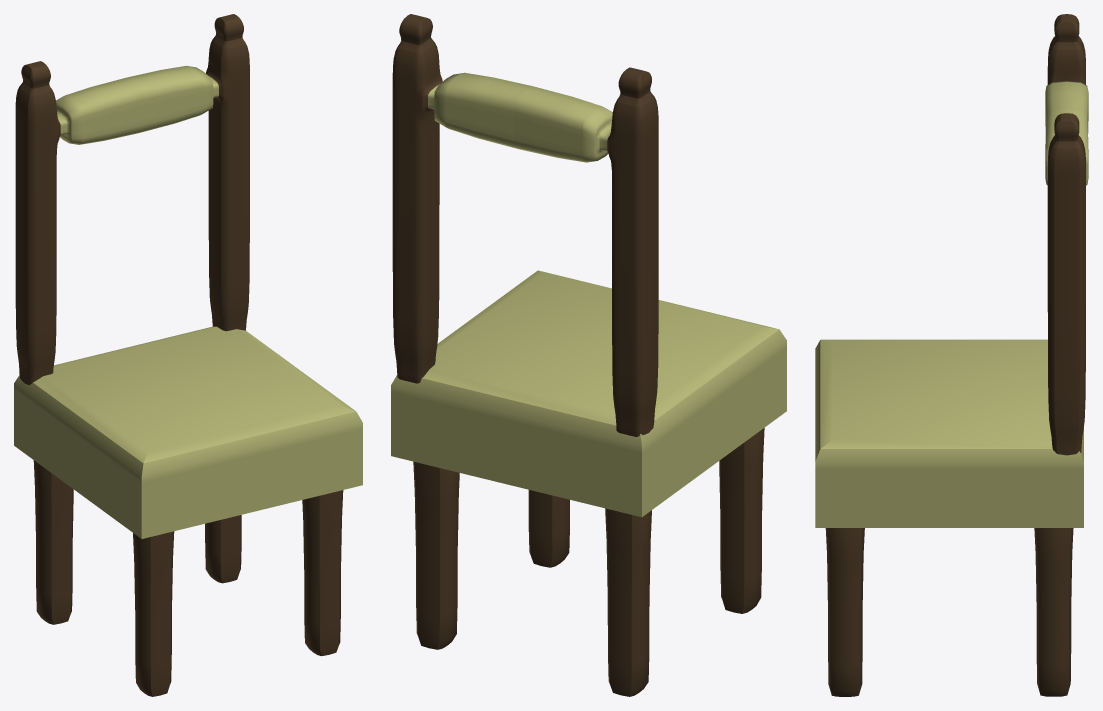
The model's file is chair8.fbx.
The picture shows the model from 3 angles, left to right: view 1: azimuth 30°, elevation 25°; view 2: azimuth 150°, elevation 25°; view 3: azimuth 270°, elevation 25°; orthographic projection. The views are drawn at different scales.
Visible parts, largest first — view 1: Chair8; view 2: Chair8; view 3: Chair8.
Part boxes in pixels (<box>): Chair8: <box>14,14,362,696</box>; Chair8: <box>391,14,786,696</box>; Chair8: <box>815,14,1088,696</box>.
Bounding box in the file's own units: 46.11 × 109 × 46.31.
